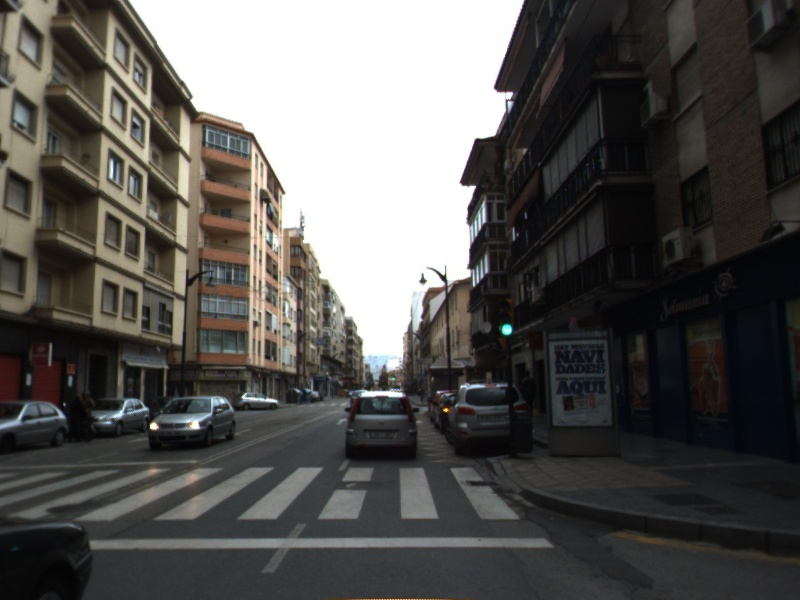STRAIGHT: (335, 417, 349, 426)
